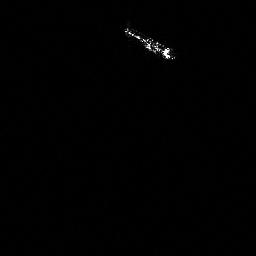ship: (119, 23, 179, 65)
